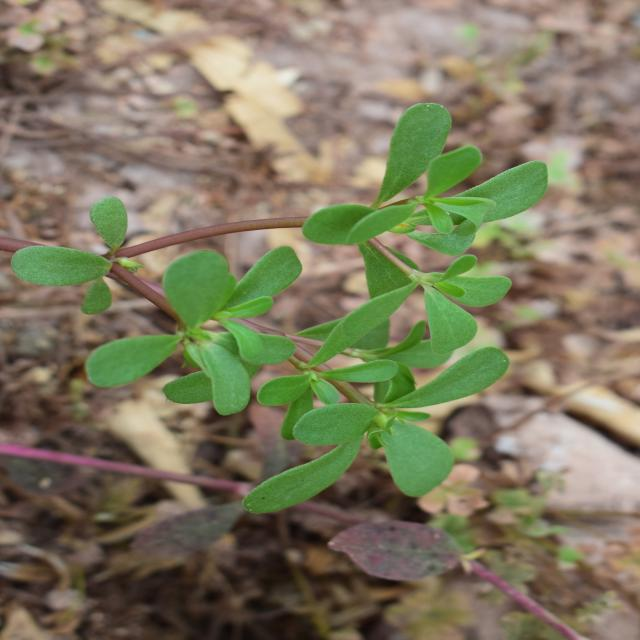purslane: (100, 82, 503, 592)
